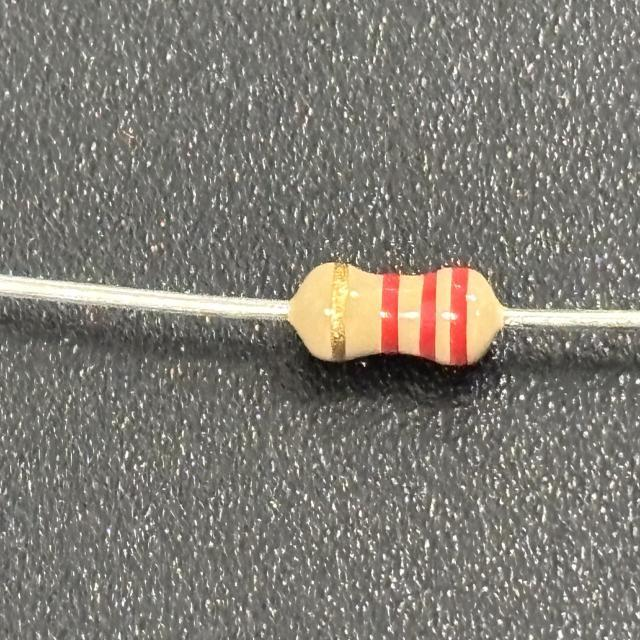resistor: (309, 256, 489, 370)
